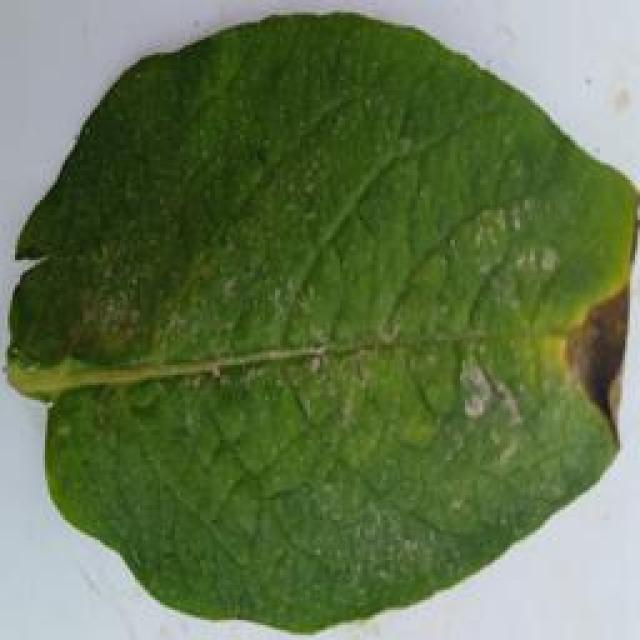Potato_Late_Blight: (7, 14, 628, 634)
